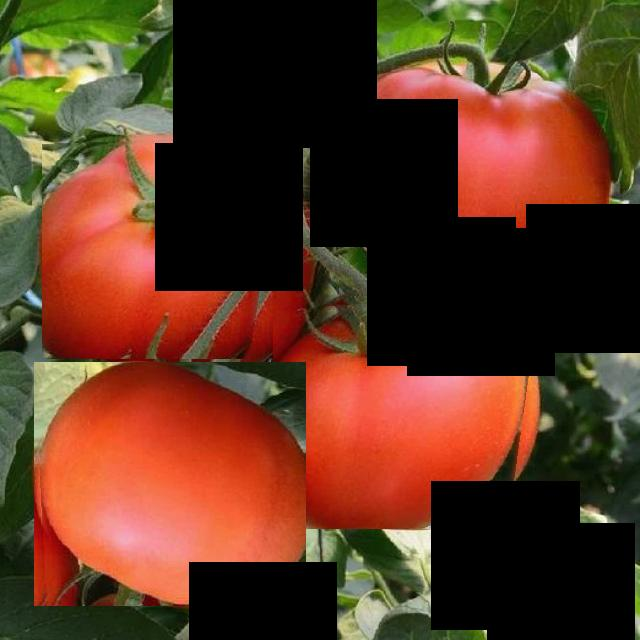tomatoes: (34, 362, 306, 606), (273, 289, 541, 529), (334, 73, 609, 298), (42, 135, 284, 359)
